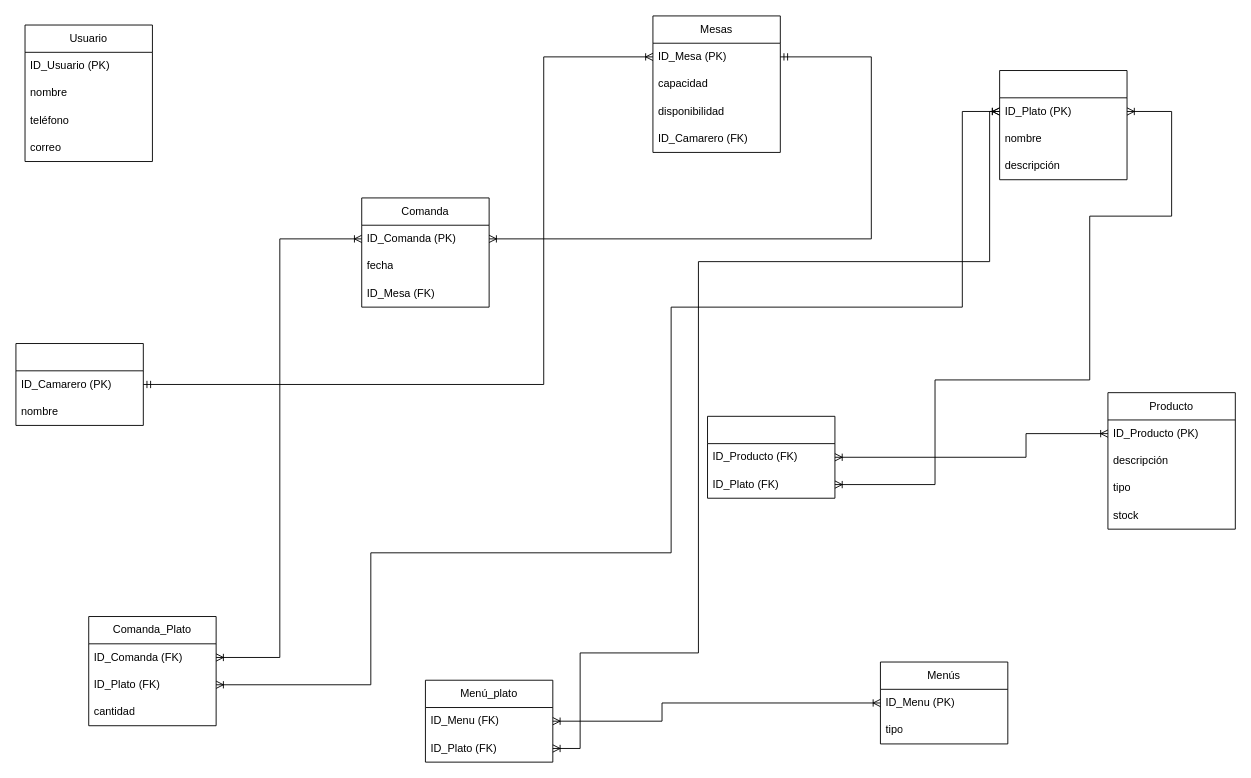
The diagram is 1251 pixels wide and 778 high, and some of its shapes have lost their labels. Each missing label, with the box of its shape:
Camareros: (15, 343, 143, 425)
Plato_Producto: (707, 415, 835, 498)
Platos: (999, 70, 1127, 180)
